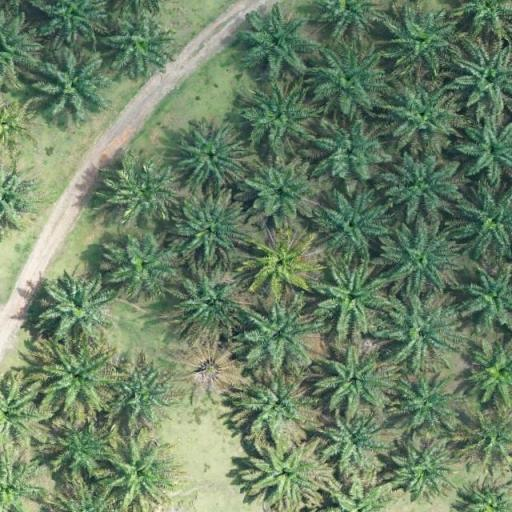Ganoderma: (254, 240, 312, 288), (184, 350, 233, 392)
